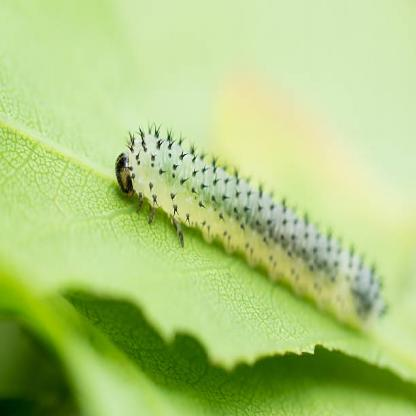sawfly: (111, 116, 390, 328)
